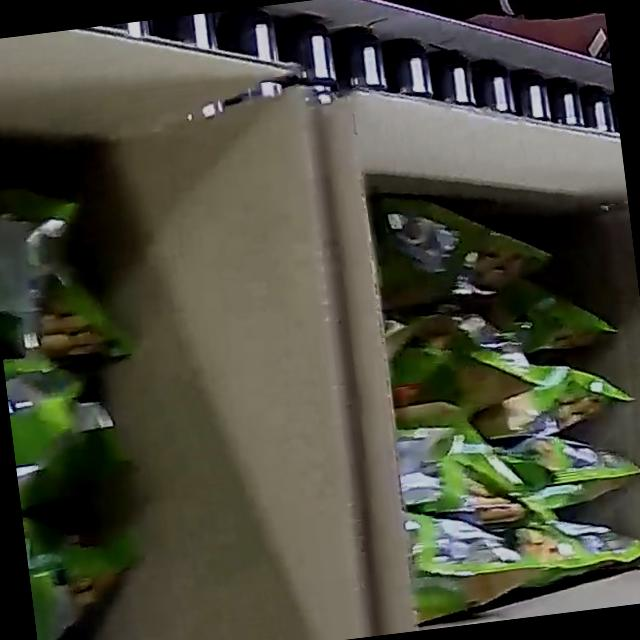yogurt: (362, 160, 640, 620), (0, 142, 188, 640)
